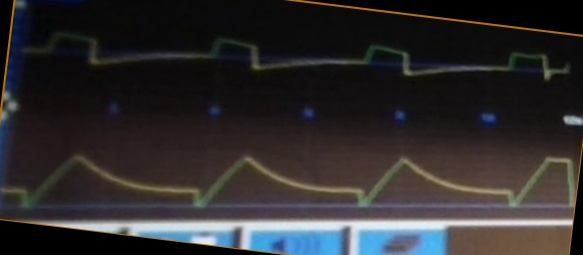Flow: (24, 31, 567, 95)
Leakage Volume: (12, 135, 572, 218)
